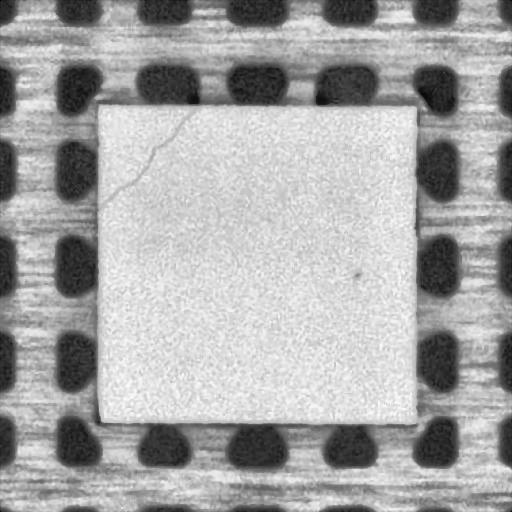DIE_CRACK: (98, 106, 200, 214)
